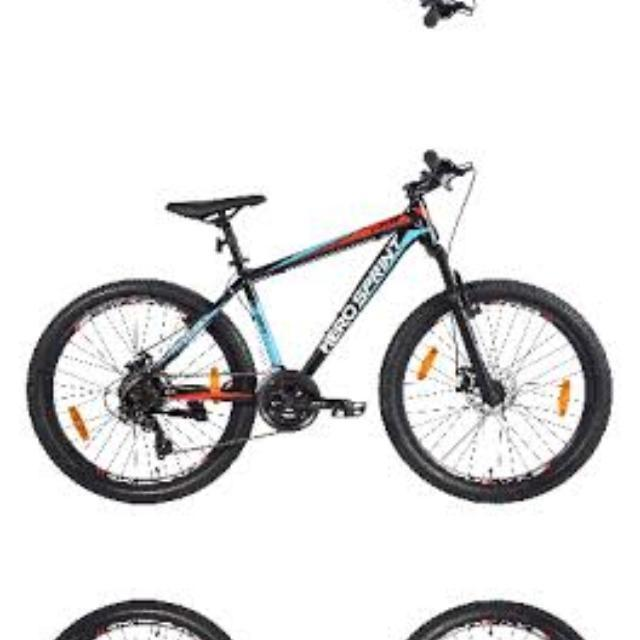obstacle: (22, 143, 640, 552), (22, 550, 640, 640), (22, 0, 640, 33)
